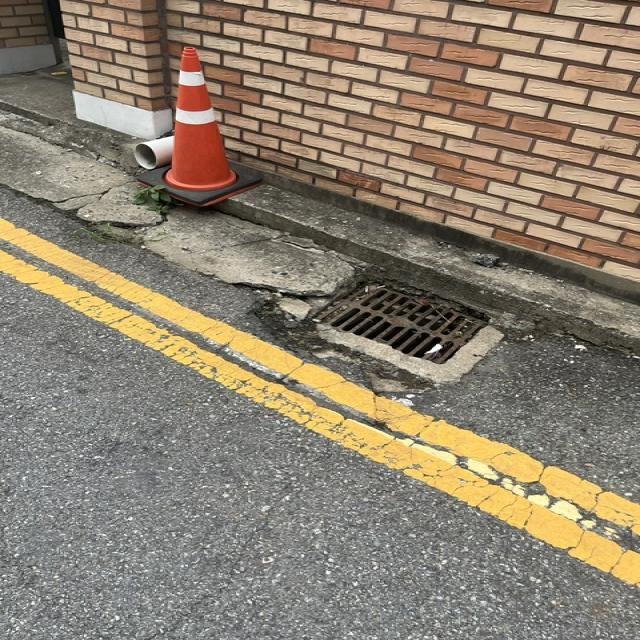drain_area: (330, 290, 466, 359)
drain_full: (316, 283, 488, 366)
